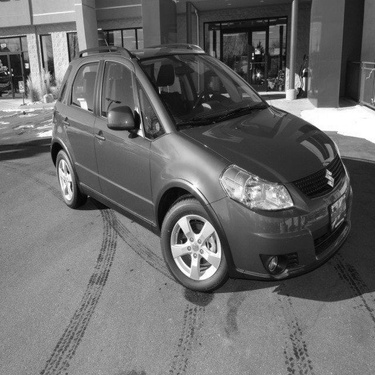car: (25, 39, 361, 293), (223, 52, 253, 77)
